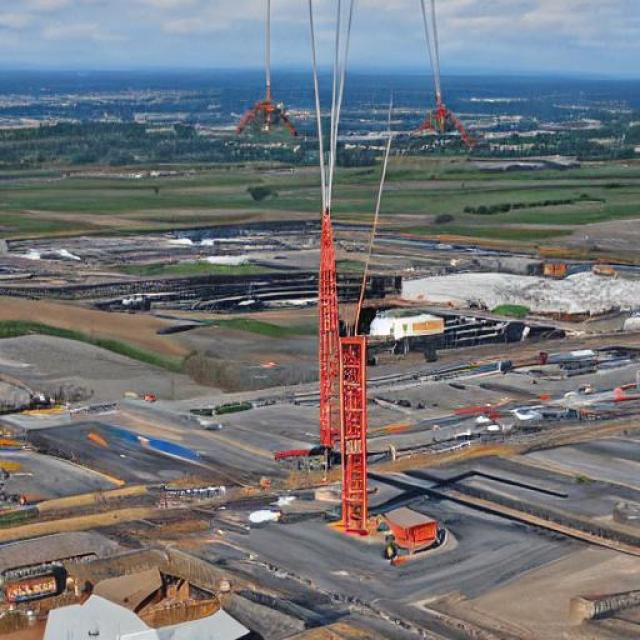crane: (272, 0, 548, 516)
